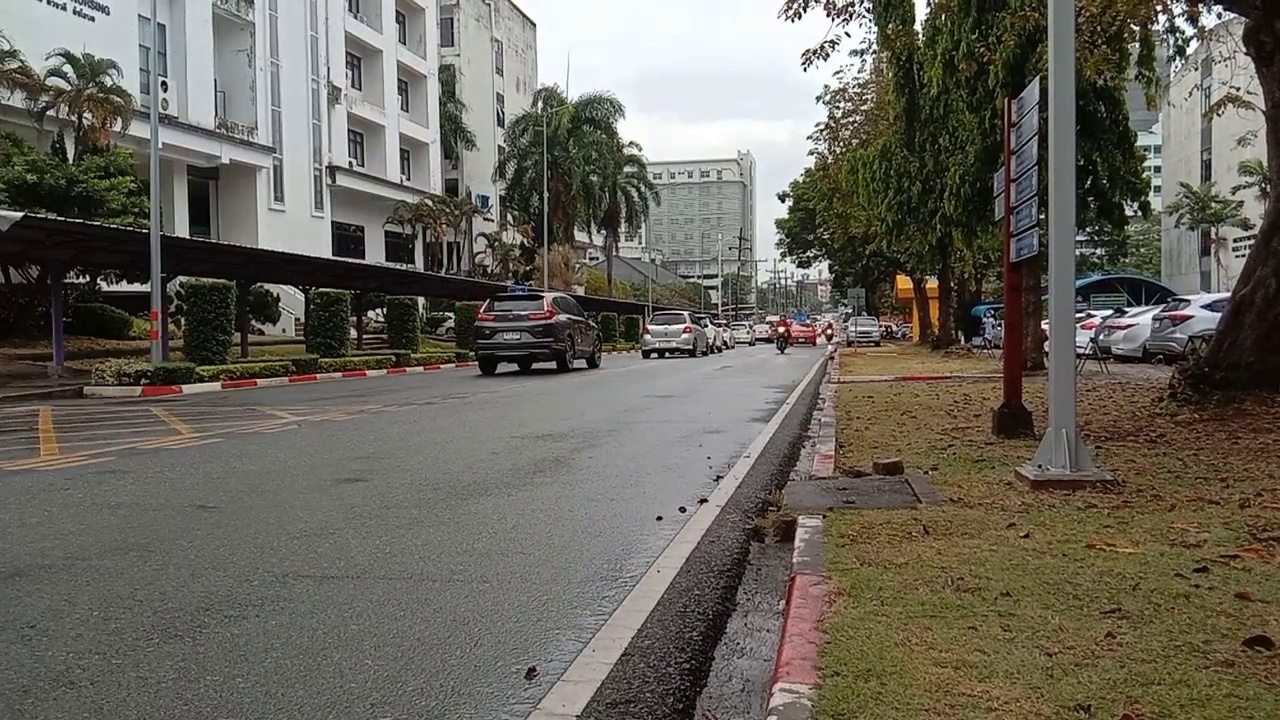License Plate: (499, 328, 521, 340)
